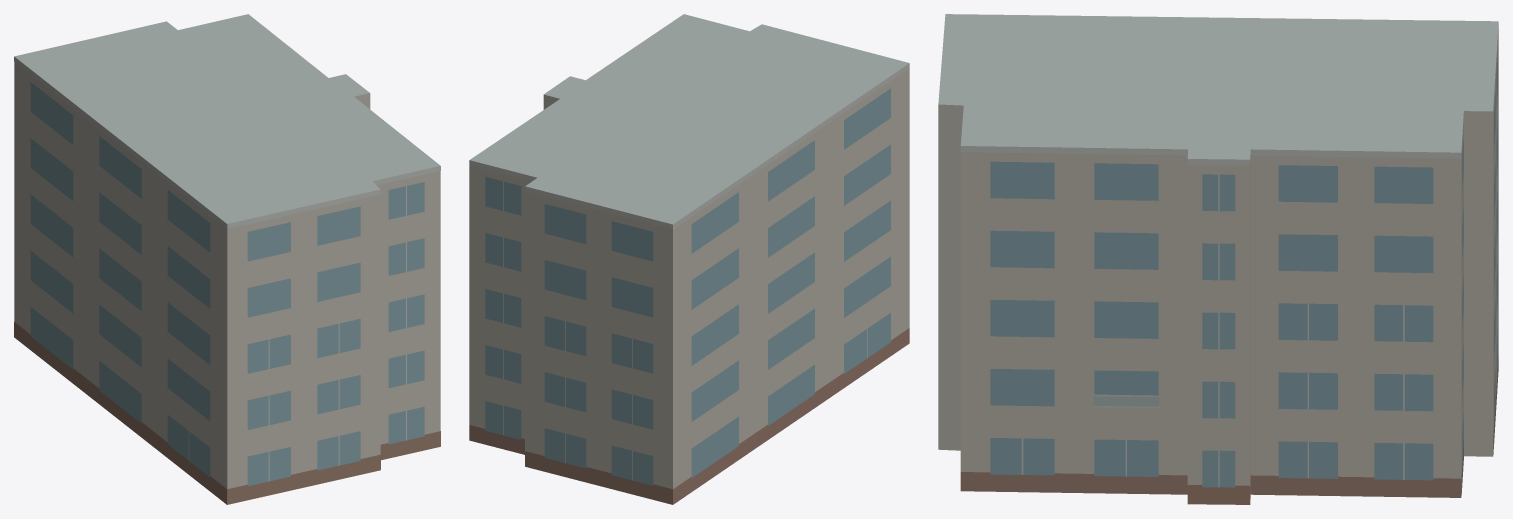
File: survey-upis-32752496.glb
The picture shows the model from 3 angles, left to right: view 1: azimuth 30°, elevation 25°; view 2: azimuth 150°, elevation 25°; view 3: azimuth 270°, elevation 25°; orthographic projection. The views are drawn at different scales.
Visible parts, largest first — view 1: survey-upis-32752496.tmp; view 2: survey-upis-32752496.tmp; view 3: survey-upis-32752496.tmp.
Boxes of the visible parts, left/top/right/bottom form: survey-upis-32752496.tmp: left=14, top=14, right=440, bottom=504; survey-upis-32752496.tmp: left=469, top=14, right=909, bottom=504; survey-upis-32752496.tmp: left=938, top=14, right=1498, bottom=504.
Bounding box in the file's own units: 12.31 × 13.6 × 20.01.
